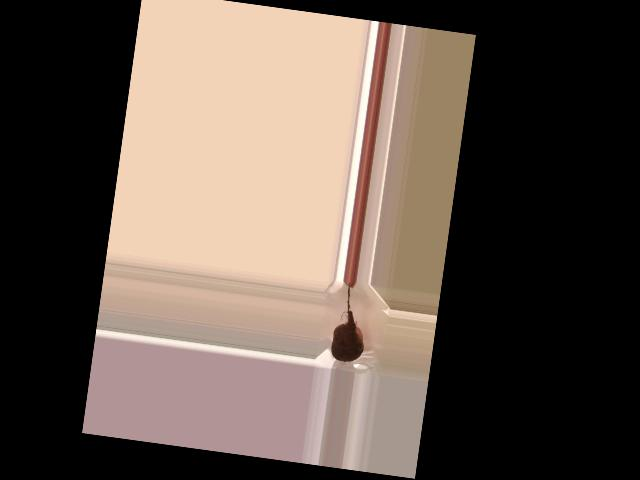beet: (330, 283, 372, 364)
